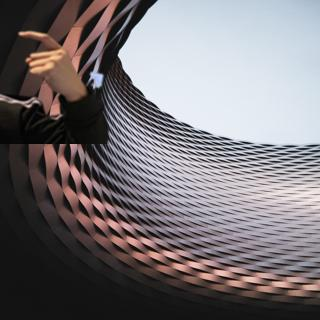WHY: (13, 27, 84, 98)
